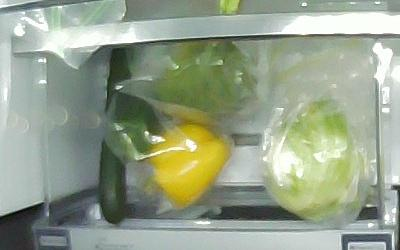broccoli_vinyl: (154, 40, 251, 113)
cucumber_vinyl: (97, 46, 135, 224)
lettuce_vinyl: (264, 100, 359, 221)
paprika_vinyl: (143, 124, 231, 211), (105, 94, 157, 160)
